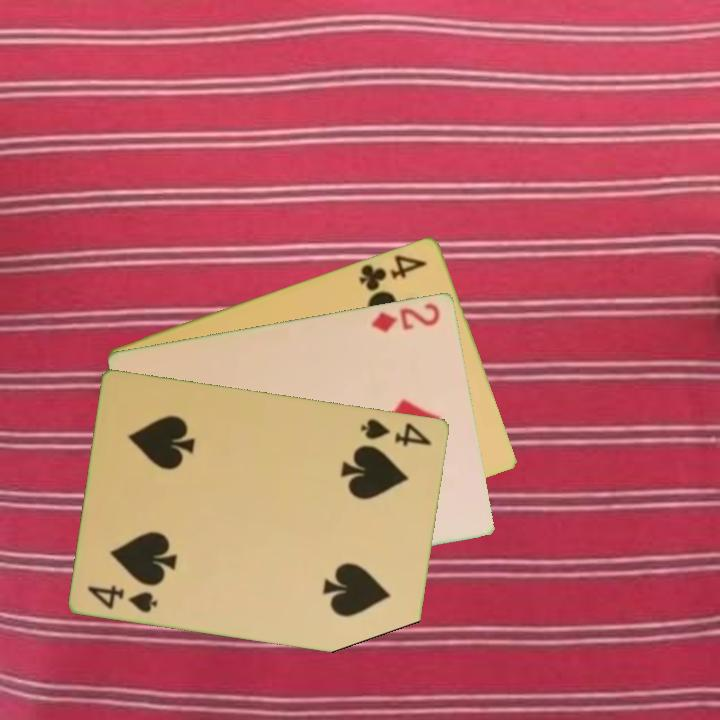2d: (368, 299, 443, 335)
4c: (355, 251, 430, 294)
4s: (357, 415, 435, 449), (85, 581, 161, 615)
